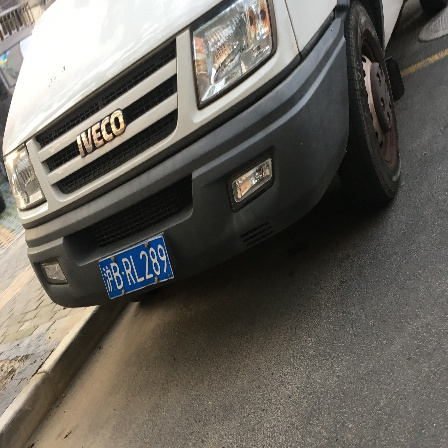plate: (91, 242, 175, 295)
